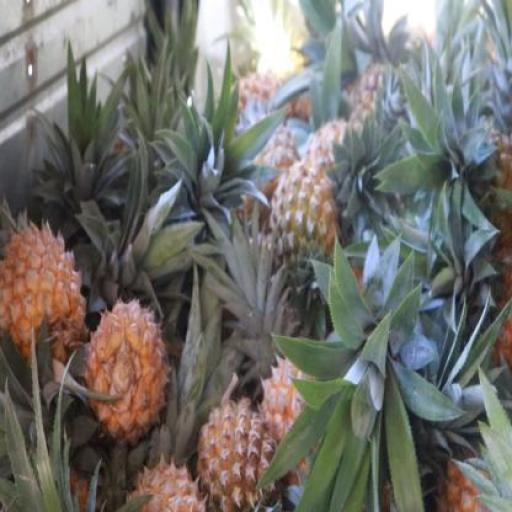Pineapple - v8 v1: (0, 224, 85, 378), (88, 300, 166, 434), (198, 399, 277, 512)
